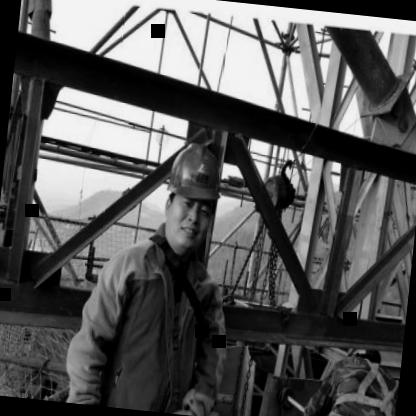helmet: (158, 132, 231, 260)
